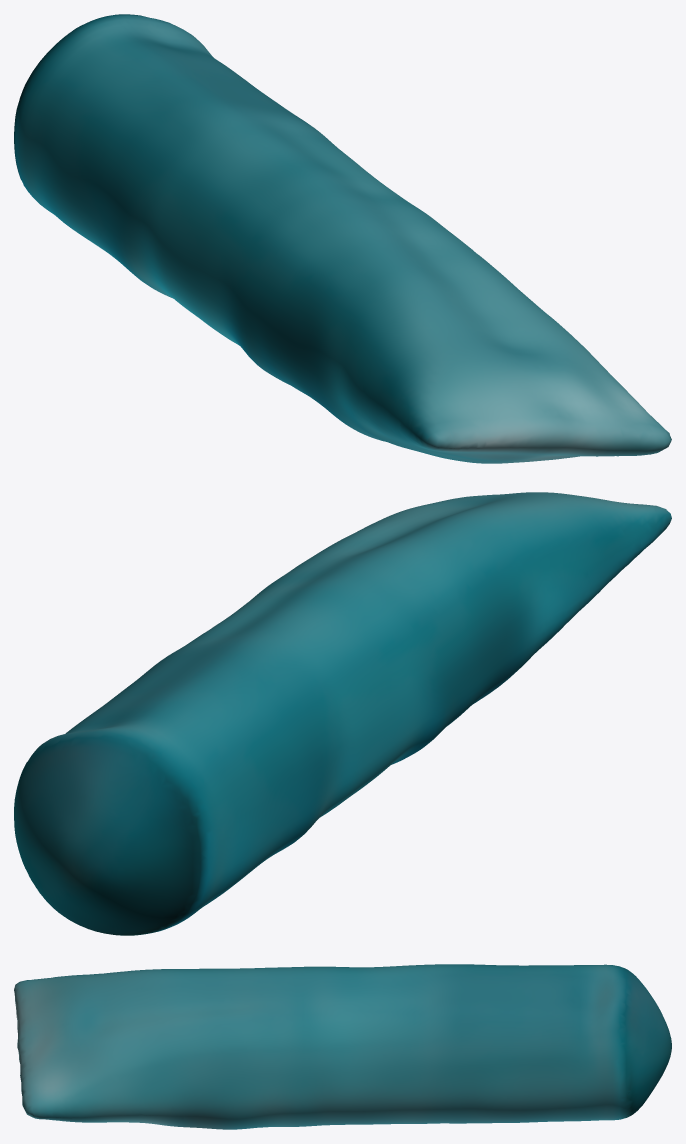
File: oil.glb
3 renders of one model, top to bottom at view 1: azimuth 30°, elevation 25°; view 2: azimuth 150°, elevation 25°; view 3: azimuth 270°, elevation 25°, orthographic. The views are drawn at different scales.
Bounding box in the file's own units: 0.3061 × 0.2381 × 0.9989.
